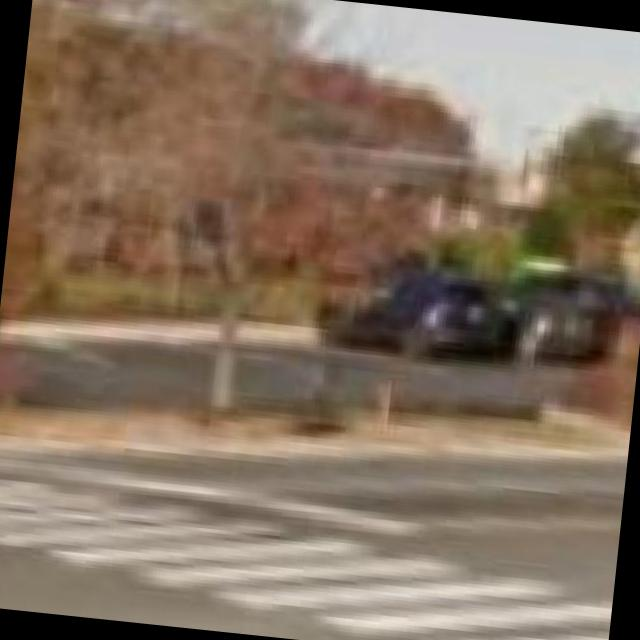zebra: (0, 445, 613, 640)
